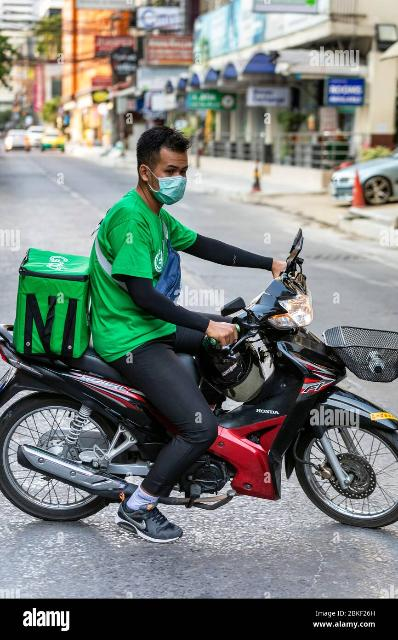motor: (1, 232, 398, 529)
non-helm: (138, 127, 190, 205)
